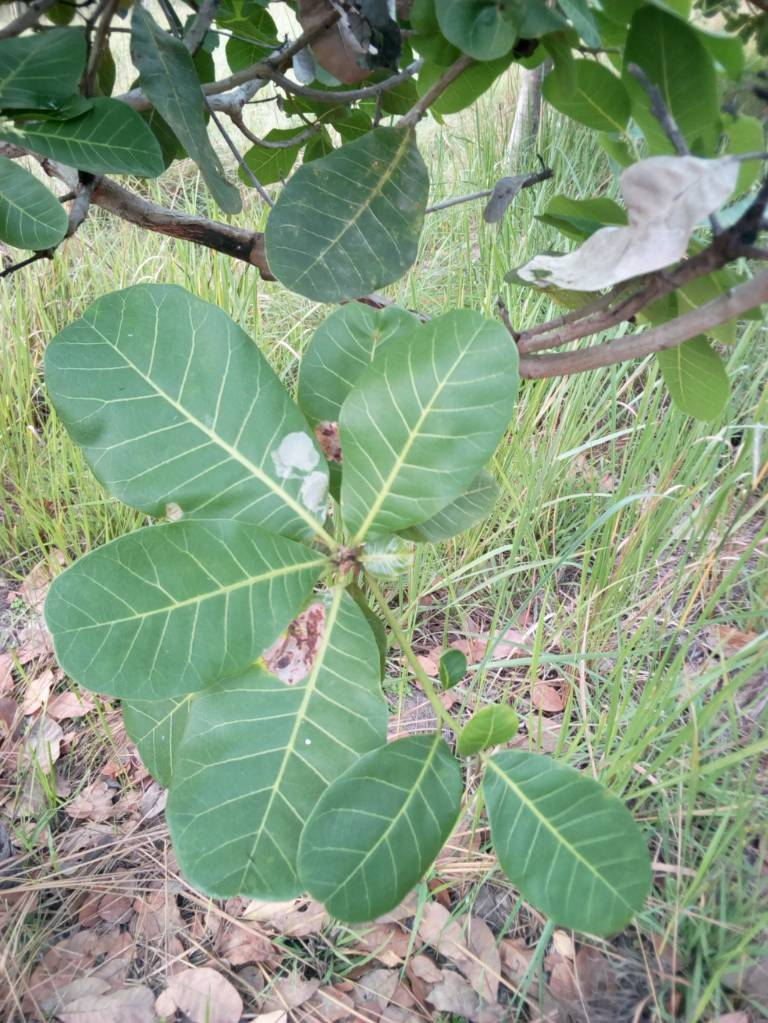Dysdercus wolkerii: (149, 589, 411, 911), (274, 294, 433, 505)
